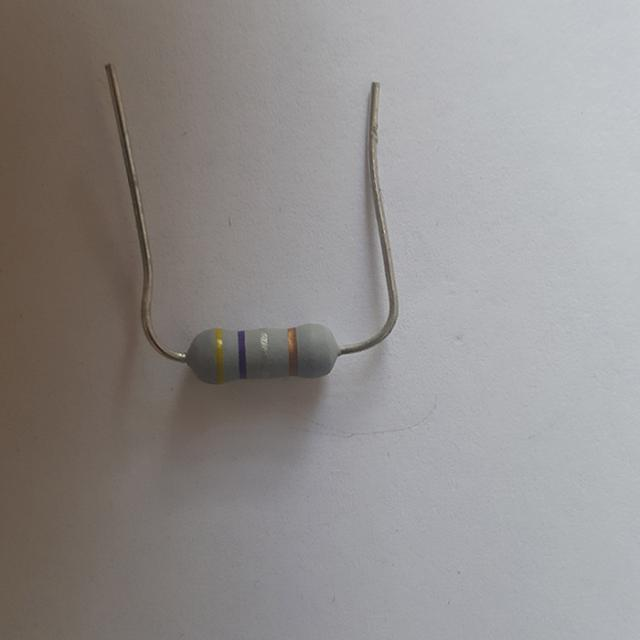Resistor Carbon-Film: (187, 321, 340, 387)
